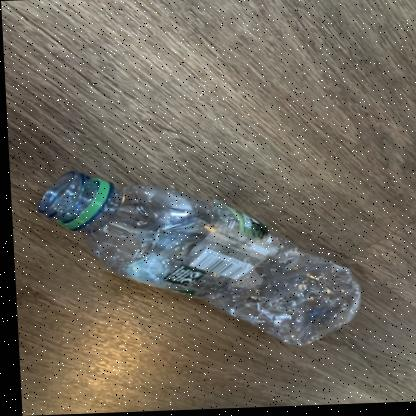Plastic: (35, 171, 356, 347)
